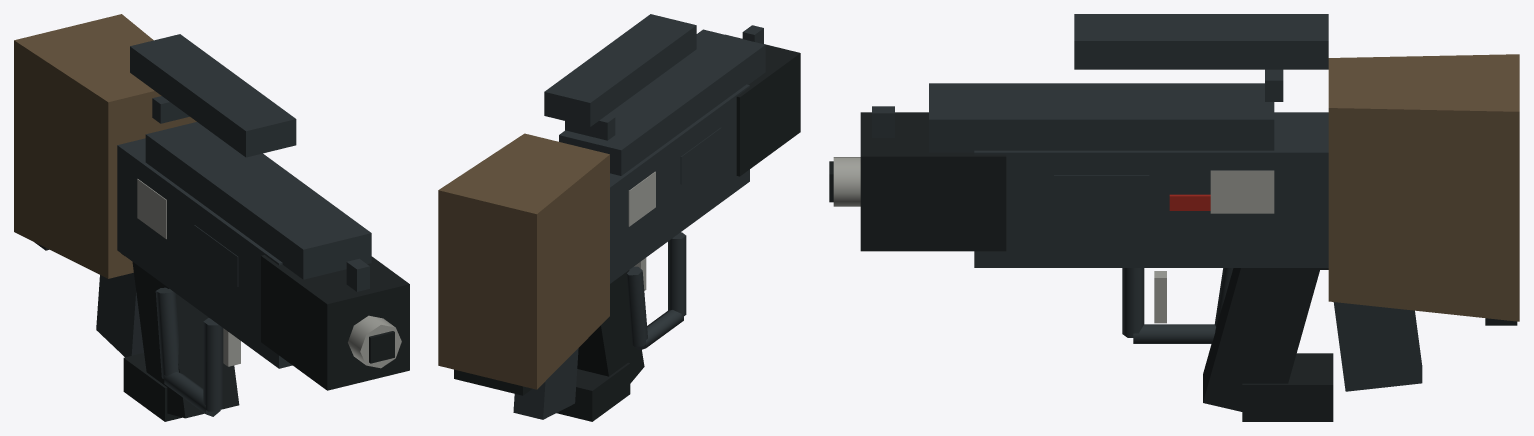
The picture shows the model from 3 angles, left to right: view 1: azimuth 30°, elevation 25°; view 2: azimuth 150°, elevation 25°; view 3: azimuth 270°, elevation 25°; orthographic projection. The views are drawn at different scales.
Visible parts, largest first — view 1: weapon-smg-2-painted; view 2: weapon-smg-2-painted; view 3: weapon-smg-2-painted.
Boxes of the visible parts, left/top/right/bottom form: weapon-smg-2-painted: left=14, top=14, right=409, bottom=421; weapon-smg-2-painted: left=438, top=14, right=800, bottom=421; weapon-smg-2-painted: left=829, top=14, right=1519, bottom=421.
Bounding box in the file's own units: 0.5925 × 1.82 × 3.
